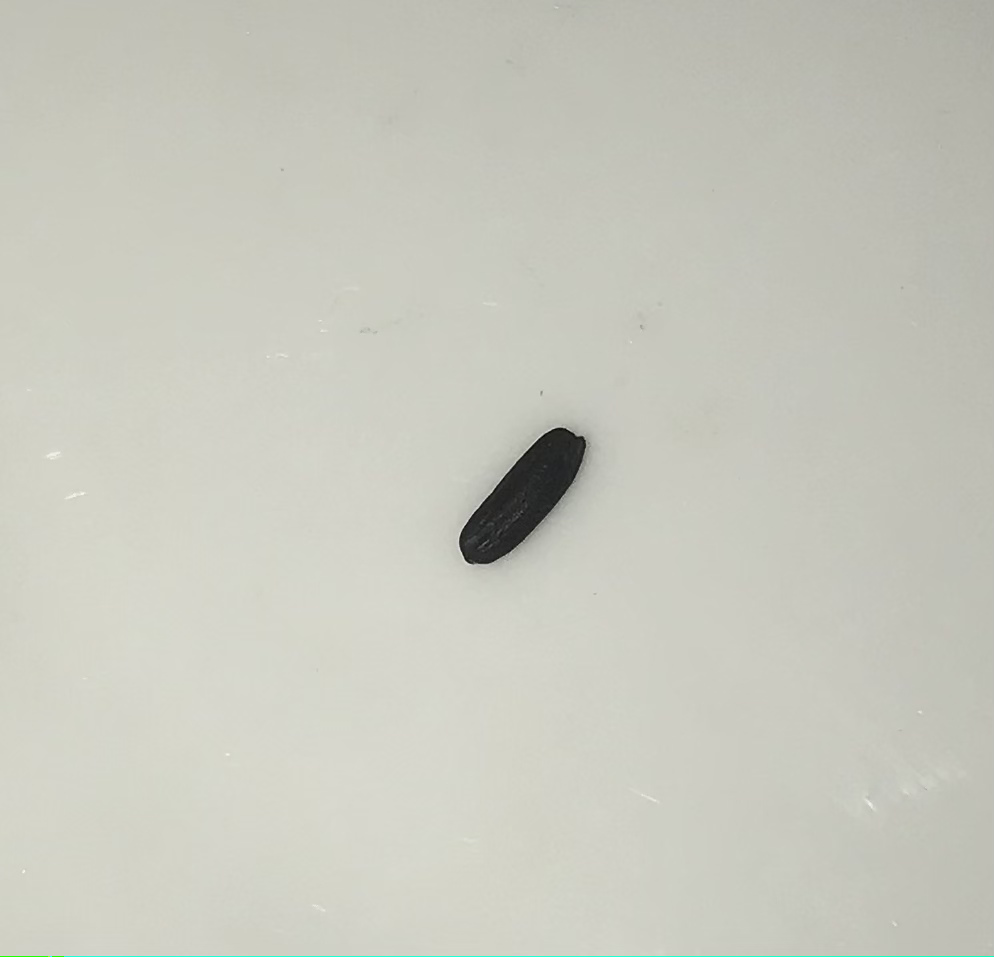Gao Nep Cam: (454, 394, 580, 575)
